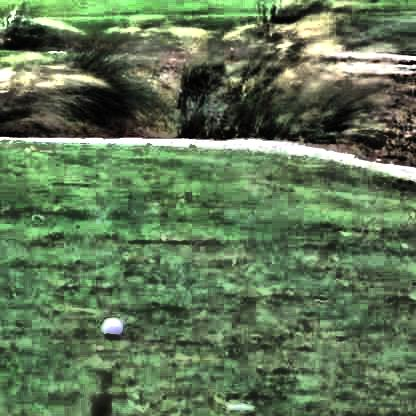golfball: (99, 315, 121, 337)
